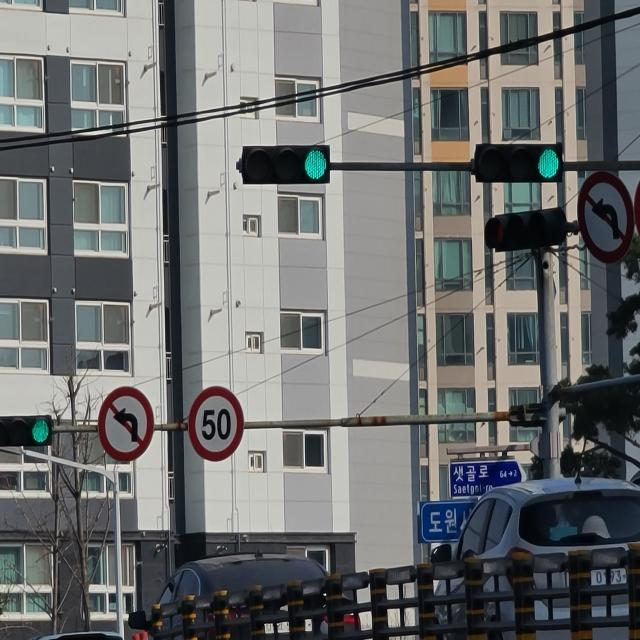Green Light: (302, 146, 328, 182), (535, 146, 561, 180), (29, 415, 51, 447)
Red Light: (489, 216, 508, 248)
